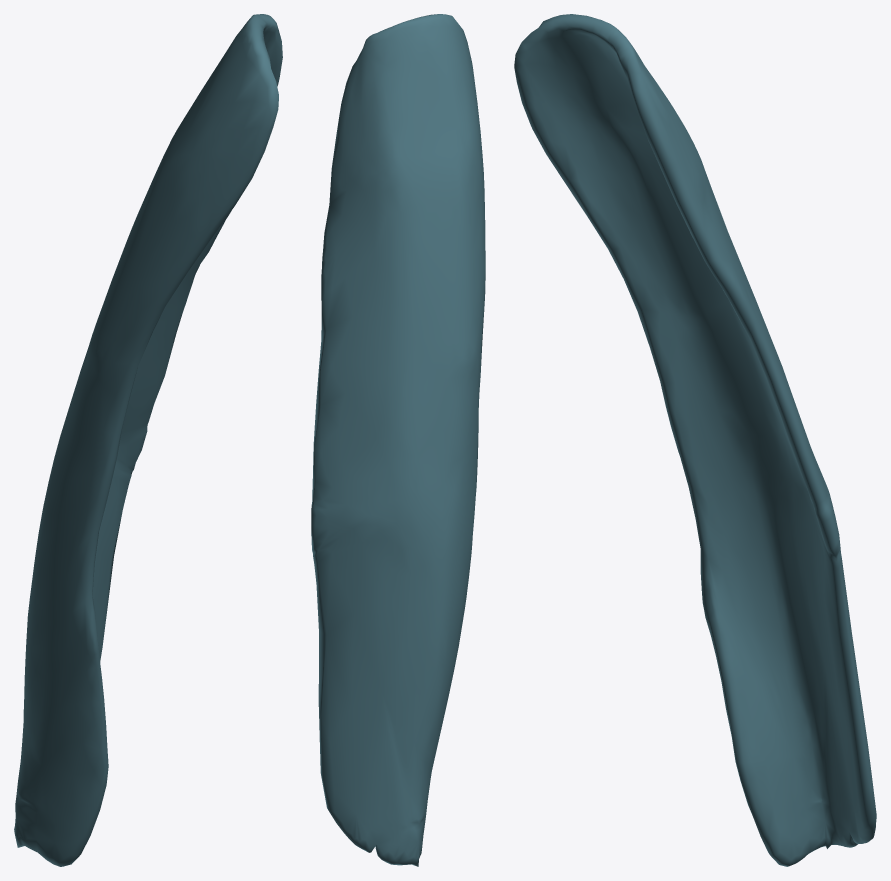
The model's file is Rhomboid_minor_muscle-Scapular_insertion.l_Generated_Mesh_From_.glb.
3 views of the same model, side by side, from view 1: azimuth 30°, elevation 25°; view 2: azimuth 150°, elevation 25°; view 3: azimuth 270°, elevation 25° (orthographic). The views are drawn at different scales.
Visible parts, largest first — view 1: Rhomboid_minor_muscle-Scapular_insertion.l_Generated_Mesh_Fr; view 2: Rhomboid_minor_muscle-Scapular_insertion.l_Generated_Mesh_Fr; view 3: Rhomboid_minor_muscle-Scapular_insertion.l_Generated_Mesh_Fr.
Part boxes in pixels (x1,y1,x2,y2): Rhomboid_minor_muscle-Scapular_insertion.l_Generated_Mesh_Fr: (14, 14, 282, 866); Rhomboid_minor_muscle-Scapular_insertion.l_Generated_Mesh_Fr: (311, 14, 485, 866); Rhomboid_minor_muscle-Scapular_insertion.l_Generated_Mesh_Fr: (514, 14, 876, 866).
Size of the model in its own units: 0.00599 by 0.0276 by 0.0101.
